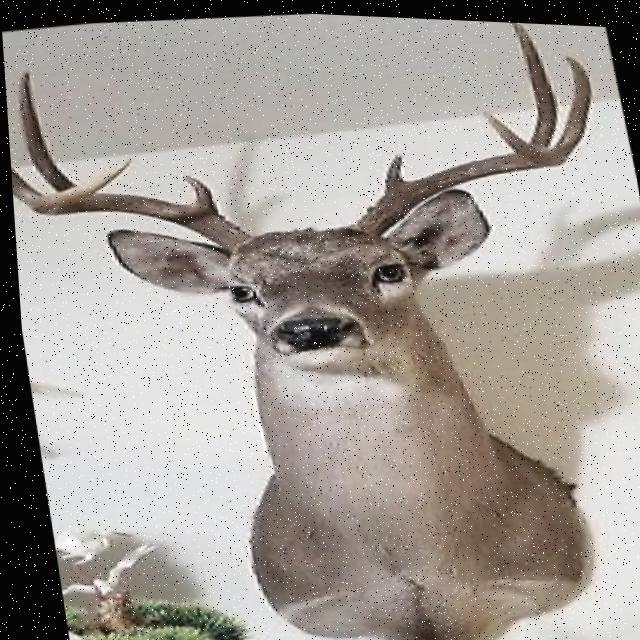L-F: (343, 106, 566, 239)
L-G1: (377, 149, 409, 193)
L-G2: (509, 18, 557, 141)
L-G3: (548, 49, 591, 154)
R-F: (22, 159, 247, 250)
R-G1: (181, 173, 217, 214)
R-G2: (16, 72, 71, 189)
R-G3: (9, 166, 39, 202)
